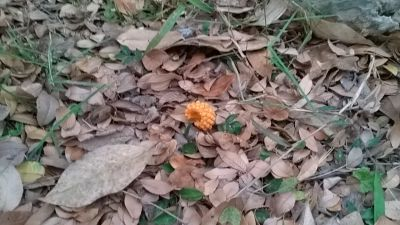eggs: (184, 99, 216, 129)
